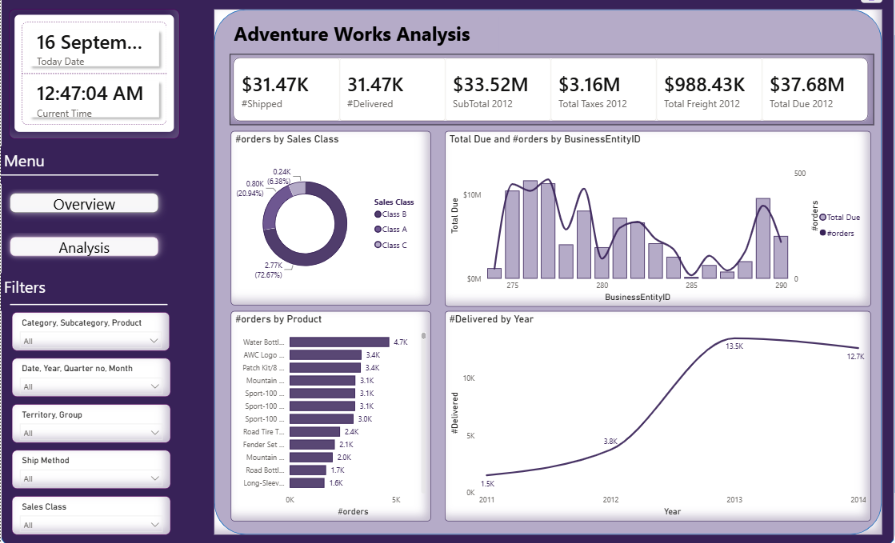

The page's visual inventory and layout, read from the dashboard file:
{"tool":"powerbi","page":{"name":"Analysis","canvas":[1500,950],"ordinal":1},"visuals":[{"type":"shape","box":[0,0,1490,950],"z":0},{"type":"shape","box":[354.3,55.7,1114.3,877.1],"z":1000},{"type":"textbox","box":[383.3,68.3,446.7,61.7],"z":2000},{"type":"slicer","fields":{"Values":["Dim Date.Date Hierarchy.Year","Dim Date.Date Hierarchy.Quarter no","Dim Date.Date Hierarchy.Month"]},"box":[18.3,636.7,265,65],"z":3000},{"type":"slicer","fields":{"Values":["Dim Product.Category Hierarchy.Category","Dim Product.Category Hierarchy.Subcategory","Dim Product.Category Hierarchy.Product"]},"box":[18.3,560,263.3,65],"z":4000},{"type":"card","fields":{"Values":["messures.Greeting"]},"box":[1131.4,0,297.1,45.7],"z":5000},{"type":"slicer","fields":{"Values":["Dim ShipMethod.Name"]},"box":[18.3,790,265,65],"z":6000},{"type":"slicer","fields":{"Values":["Dim Territory.Territory","Dim Territory.Group"]},"box":[18.3,713.3,265,65],"z":7000},{"type":"slicer","fields":{"Values":["Dim SalesPerson.Sales Class"]},"box":[18.3,866.7,265,65],"z":8000},{"type":"textbox","box":[0,495,125,63.3],"z":9000},{"type":"textbox","box":[0,282.9,125.7,62.9],"z":10000},{"type":"shape","box":[15,530,263.3,35],"z":11000},{"type":"shape","box":[0,307.1,262.9,50],"z":12000},{"type":"pageNavigator","box":[0,346.7,278.3,136.7],"z":13000},{"type":"image","box":[1432.9,7.1,35.7,38.6],"z":14000},{"type":"cardVisual","fields":{"Data":["messures.#Shipped","messures.#Delivered","messures.Subtotal 2012","messures.Total Taxes 2012","messures.Total Freight2012","messures.Total Due2012"]},"box":[381.7,130,1073.3,118.3],"z":15000},{"type":"clusteredBarChart","fields":{"Category":["Dim Product.Product"],"Y":["messures.#orders"]},"box":[383.3,558.3,333.3,350],"z":16000},{"type":"lineStackedColumnComboChart","fields":{"Category":["Dim SalesPerson.BusinessEntityID"],"Y":["messures.Total Due"],"Y2":["messures.#orders"]},"box":[740,258.6,710,292.9],"z":17000},{"type":"lineChart","fields":{"Category":["Dim Date.Date Hierarchy.Year"],"Y":["messures.#Delivered"]},"box":[740,558.3,710,350],"z":18000},{"type":"donutChart","fields":{"Category":["Dim SalesPerson.Sales Class"],"Y":["messures.#orders"]},"box":[383.3,258.3,333.3,290],"z":19000},{"type":"cardVisual","fields":{"Data":["messures.Today Date","messures.Current Time"]},"box":[13.3,55,285,216.7],"z":21000}]}

Visuals, with their boxes on the page's 1500x950 design canvas (x1, y1, x2, y2). These are canvas units, not pixel positions in the 895x543 screenshot, which may show the page scaled, cropped or inside an application window:
shape: box(0, 0, 1490, 950)
shape: box(354, 56, 1469, 933)
textbox: box(383, 68, 830, 130)
slicer - Dim Date.Date Hierarchy.Year x Dim Date.Date Hierarchy.Quarter no: box(18, 637, 283, 702)
slicer - Dim Product.Category Hierarchy.Category x Dim Product.Category Hierarchy.Subcategory: box(18, 560, 282, 625)
card - messures.Greeting: box(1131, 0, 1428, 46)
slicer - Dim ShipMethod.Name: box(18, 790, 283, 855)
slicer - Dim Territory.Territory x Dim Territory.Group: box(18, 713, 283, 778)
slicer - Dim SalesPerson.Sales Class: box(18, 867, 283, 932)
textbox: box(0, 495, 125, 558)
textbox: box(0, 283, 126, 346)
shape: box(15, 530, 278, 565)
shape: box(0, 307, 263, 357)
pageNavigator: box(0, 347, 278, 483)
image: box(1433, 7, 1469, 46)
cardVisual - messures.#Shipped x messures.#Delivered: box(382, 130, 1455, 248)
clusteredBarChart - Dim Product.Product x messures.#orders: box(383, 558, 717, 908)
lineStackedColumnComboChart - Dim SalesPerson.BusinessEntityID x messures.Total Due: box(740, 259, 1450, 552)
lineChart - Dim Date.Date Hierarchy.Year x messures.#Delivered: box(740, 558, 1450, 908)
donutChart - Dim SalesPerson.Sales Class x messures.#orders: box(383, 258, 717, 548)
cardVisual - messures.Today Date x messures.Current Time: box(13, 55, 298, 272)
